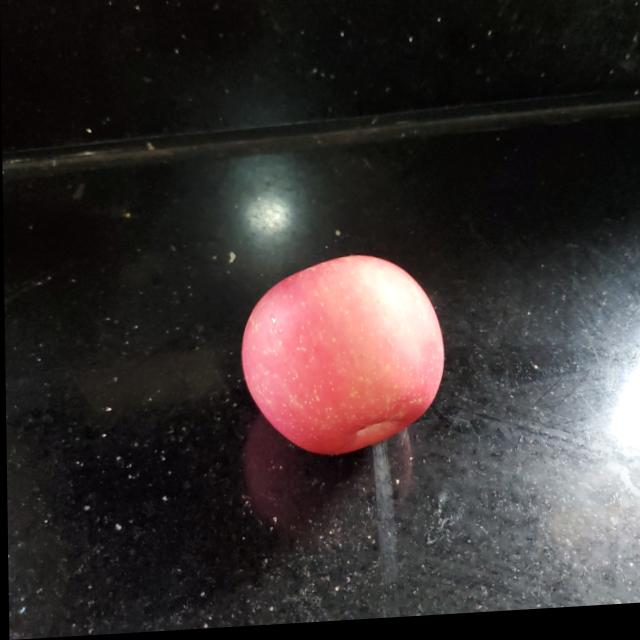apple: (245, 254, 449, 468)
